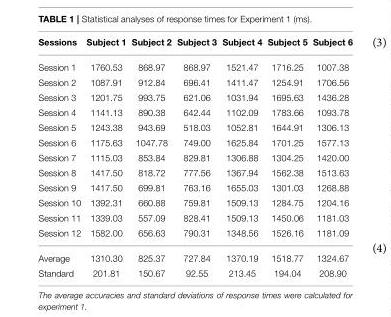table: (37, 37, 351, 277)
table column: (82, 37, 128, 277), (218, 37, 264, 277), (37, 37, 82, 277), (128, 37, 173, 277), (173, 37, 218, 277), (264, 37, 309, 277), (309, 37, 351, 277)
table column header: (37, 37, 351, 54)
table row: (37, 54, 351, 74), (37, 225, 351, 245), (37, 245, 351, 265), (37, 37, 351, 54), (37, 104, 351, 120), (37, 74, 351, 89), (37, 89, 351, 104), (37, 120, 351, 135), (37, 135, 351, 150), (37, 150, 351, 165), (37, 165, 351, 180), (37, 180, 351, 195), (37, 195, 351, 210), (37, 210, 351, 225), (37, 265, 351, 277)
